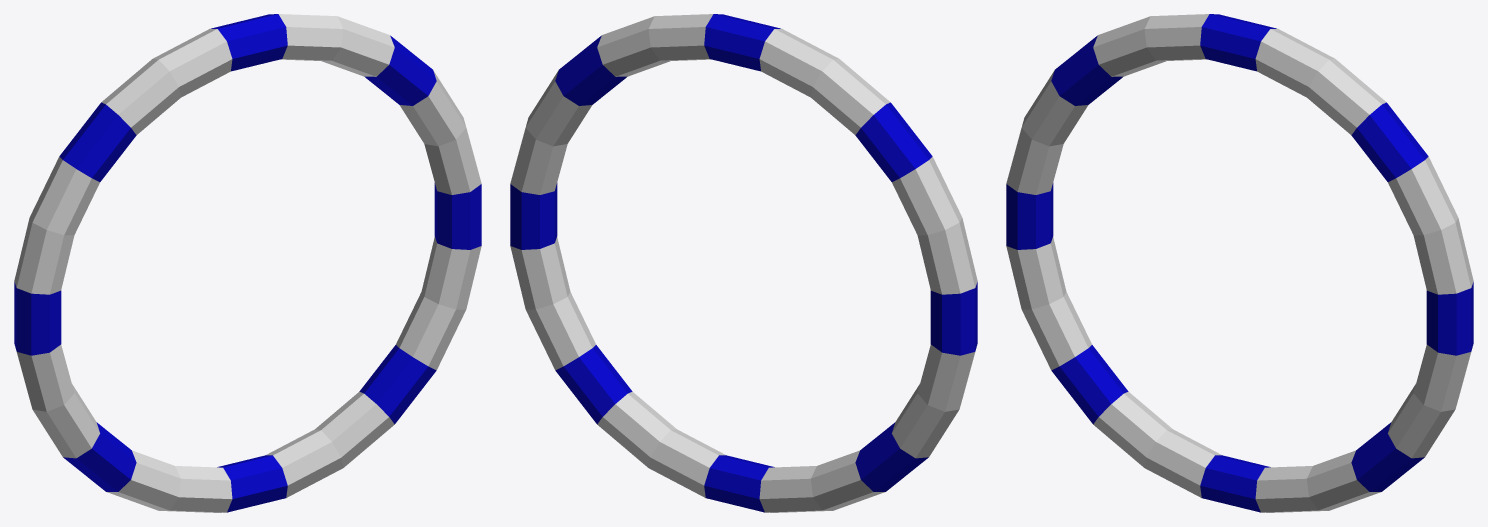
File: Proto_Stunt_Course_Ring_Small_01.fbx
The picture shows the model from 3 angles, left to right: view 1: azimuth 30°, elevation 25°; view 2: azimuth 150°, elevation 25°; view 3: azimuth 330°, elevation 25°; orthographic projection.
Visible parts, largest first — view 1: Proto_Stunt_Course_Ring_Small_01; view 2: Proto_Stunt_Course_Ring_Small_01; view 3: Proto_Stunt_Course_Ring_Small_01.
Boxes of the visible parts, bbox=[...] form: Proto_Stunt_Course_Ring_Small_01: bbox=[14, 14, 481, 512]; Proto_Stunt_Course_Ring_Small_01: bbox=[510, 14, 977, 512]; Proto_Stunt_Course_Ring_Small_01: bbox=[1006, 14, 1473, 512].
Bounding box in the file's own units: 2.2 × 2.2 × 0.2.
